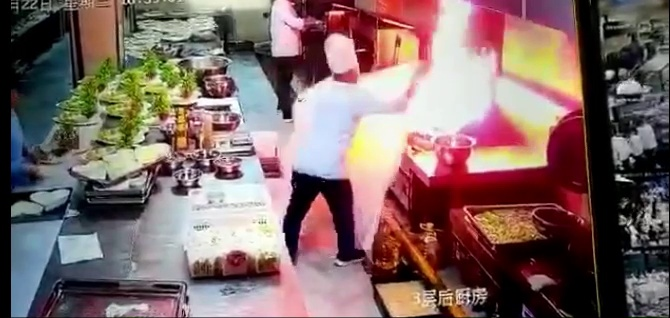fire: (418, 12, 499, 138)
